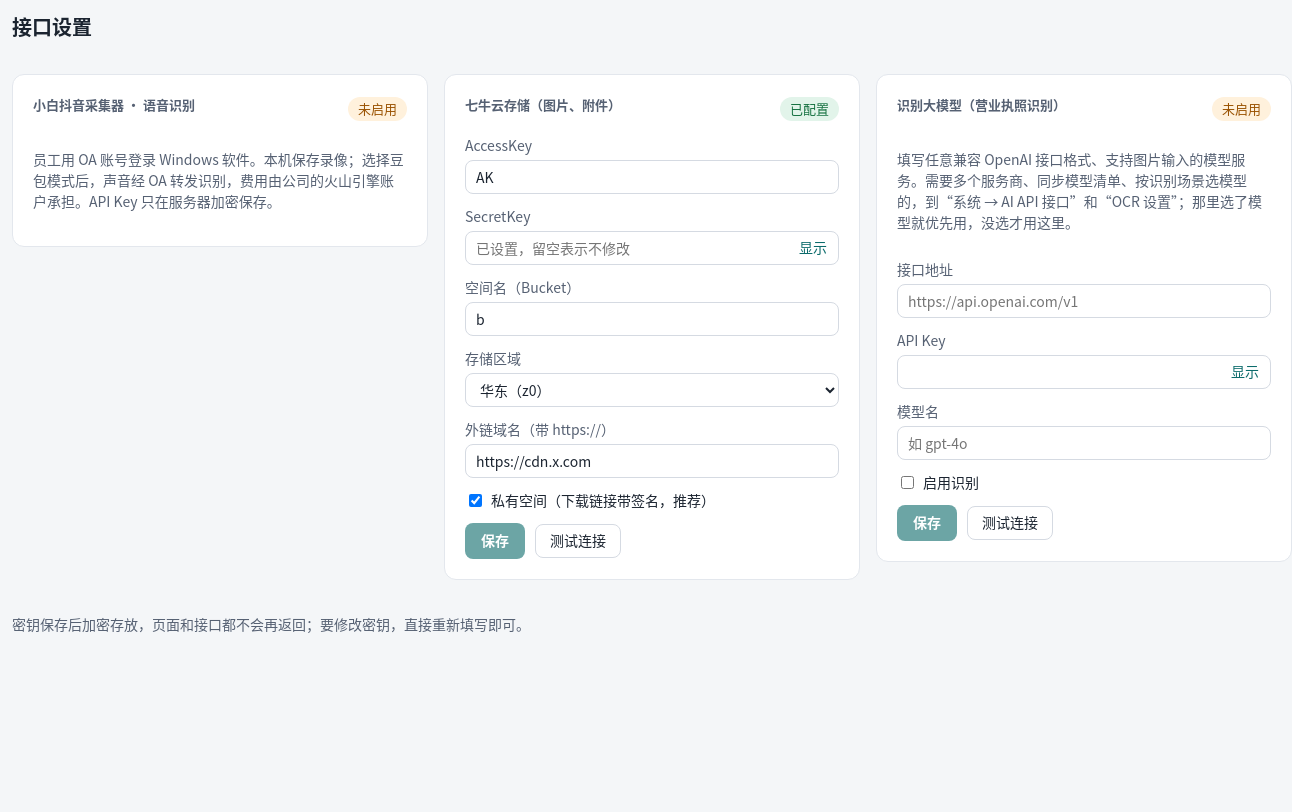
Scenario: 接口设置 › 没改东西时保存和测试按钮的状态：保存不可点；改了才出现“有未保存的修改”，并要求先保存再测试
Check: the button "保存" below "私有空间（下载链接带签名，推荐）" is disabled, box [465, 522, 525, 558]
Replace the text in the field labelled "空间名（Bucket）" with "b2" at (652, 318), box [465, 302, 839, 336]
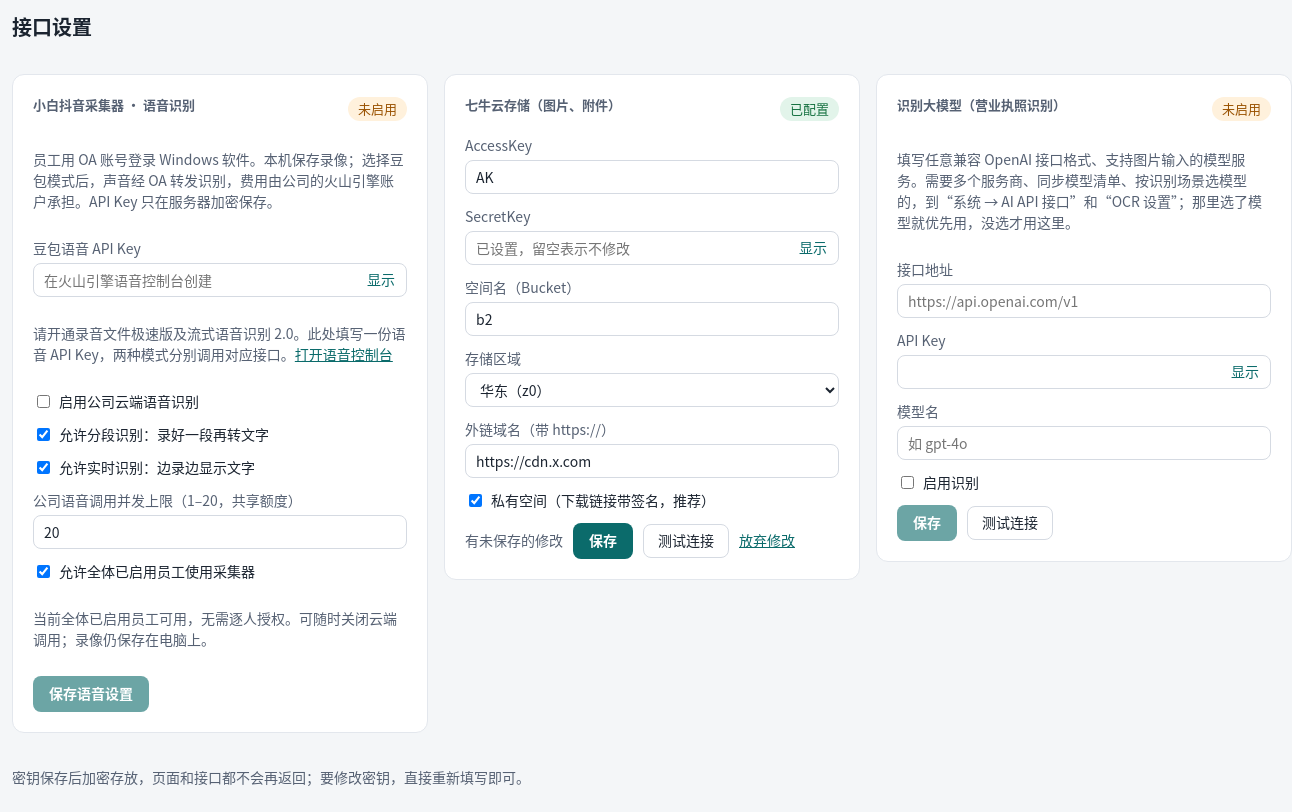
Check: the text "有未保存的修改" is shown, box [465, 530, 563, 551]
Check: the button "测试连接" in the row of "有未保存的修改" is disabled, box [643, 524, 729, 558]
Click the button "放弃修改".
click(767, 540)  # box [739, 530, 795, 551]
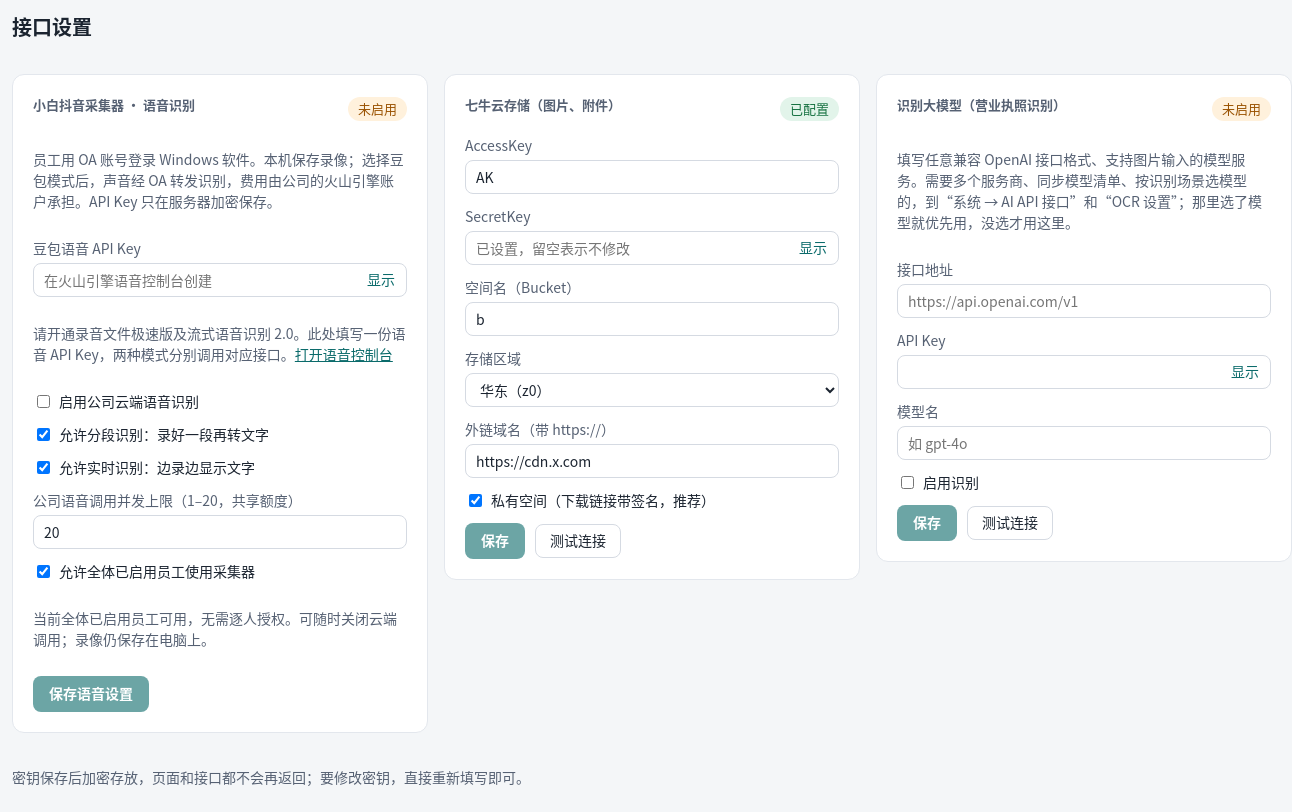
Check: the field labelled "空间名（Bucket）" holds "b", box [465, 302, 839, 336]
